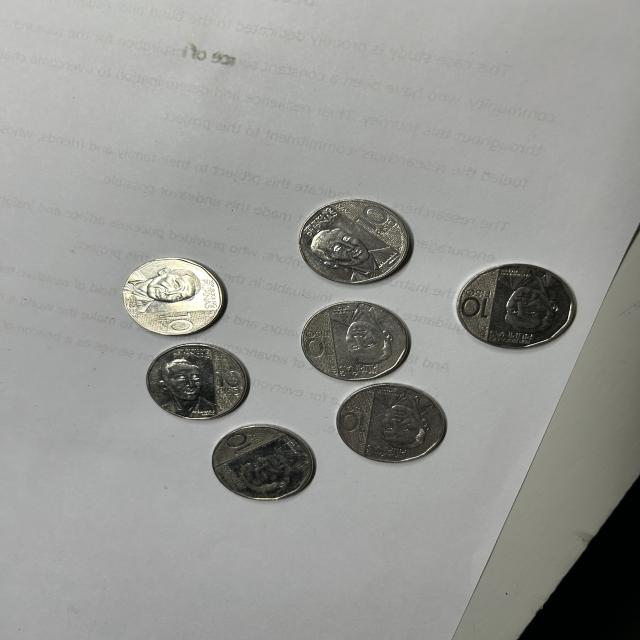10_New_Front: (338, 200, 389, 242), (148, 312, 199, 337), (217, 431, 268, 456), (301, 326, 332, 366), (336, 410, 371, 440), (460, 283, 487, 321), (216, 371, 249, 390)
